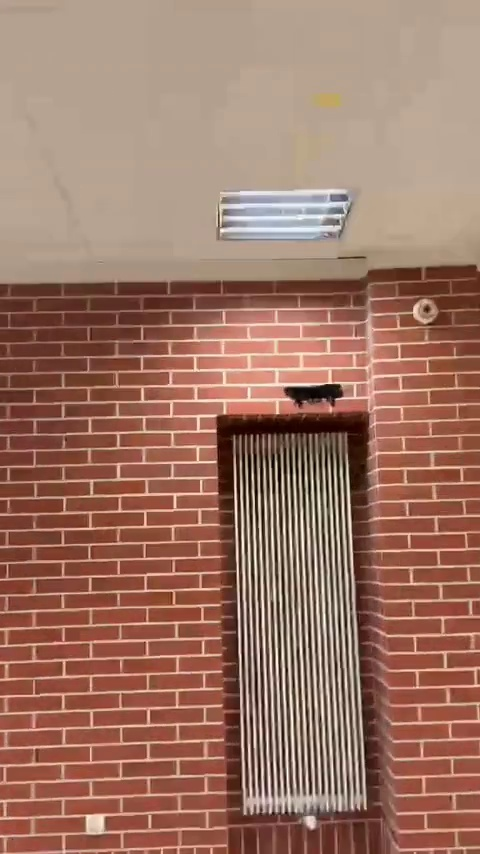drone: (282, 382, 348, 412)
